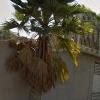Palm tree: (13, 1, 76, 84)
